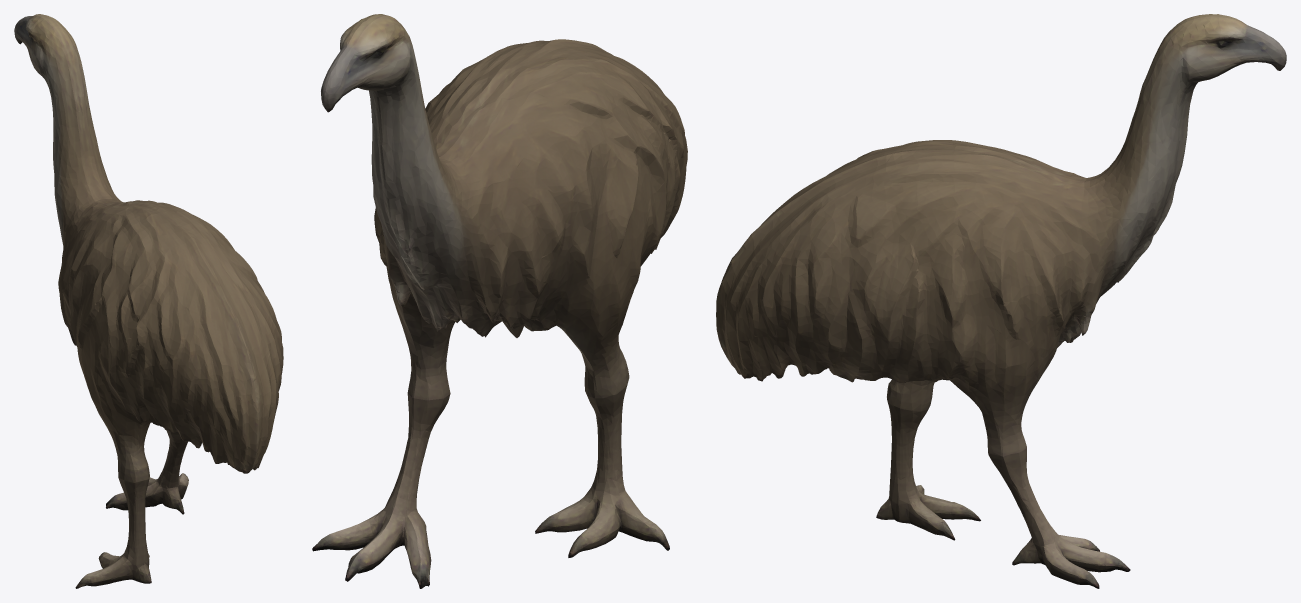
The picture shows the model from 3 angles, left to right: view 1: azimuth 30°, elevation 25°; view 2: azimuth 150°, elevation 25°; view 3: azimuth 270°, elevation 25°; orthographic projection. The views are drawn at different scales.
Parts seen in each view (by area): view 1: world; view 2: world; view 3: world.
Boxes of the visible parts, left/top/right/bottom form: world: left=14, top=14, right=283, bottom=588; world: left=312, top=14, right=687, bottom=588; world: left=716, top=14, right=1286, bottom=588.
Size of the model in its own units: 0.3844 by 0.8978 by 0.8701.
Materials: 1 (1 with a texture image).
